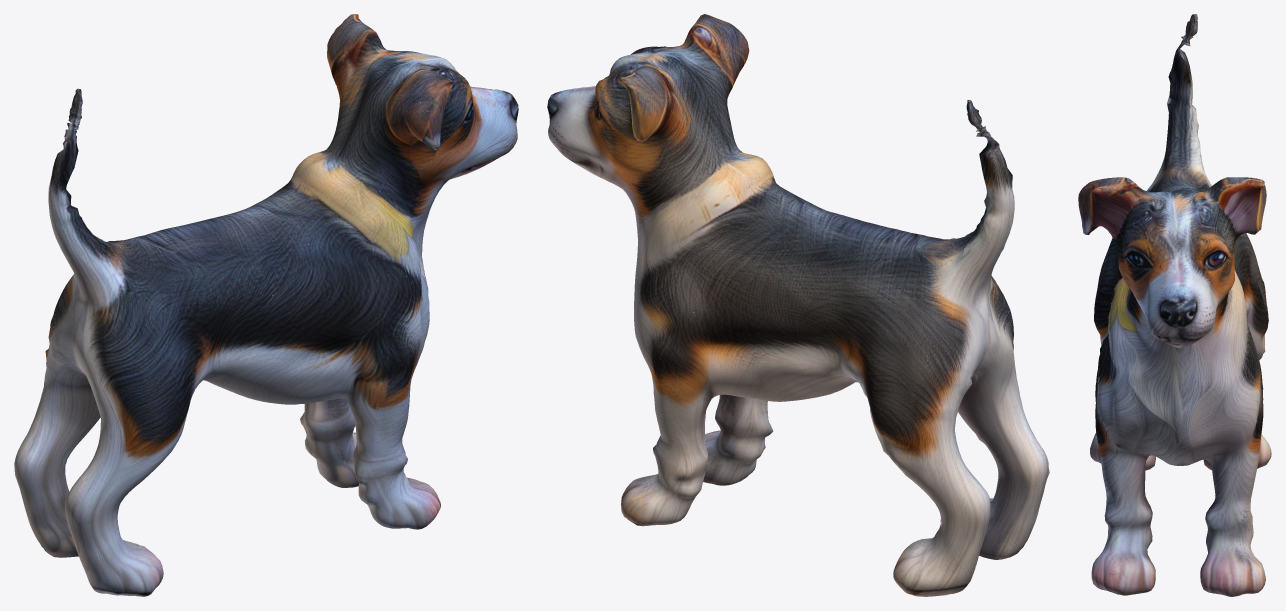
Rendered from dog-jack-russell.glb.
3 views of the same model, side by side, from view 1: azimuth 30°, elevation 25°; view 2: azimuth 150°, elevation 25°; view 3: azimuth 270°, elevation 25° (orthographic). The views are drawn at different scales.
Parts seen in each view (by area): view 1: Mesh_0.001; view 2: Mesh_0.001; view 3: Mesh_0.001.
Part boxes in pixels (<box>): Mesh_0.001: <box>14,14,518,596</box>; Mesh_0.001: <box>547,14,1049,596</box>; Mesh_0.001: <box>1078,14,1271,596</box>.
Bounding box in the file's own units: 1.2 × 1.17 × 0.4576.
1 material, 1 textured.
